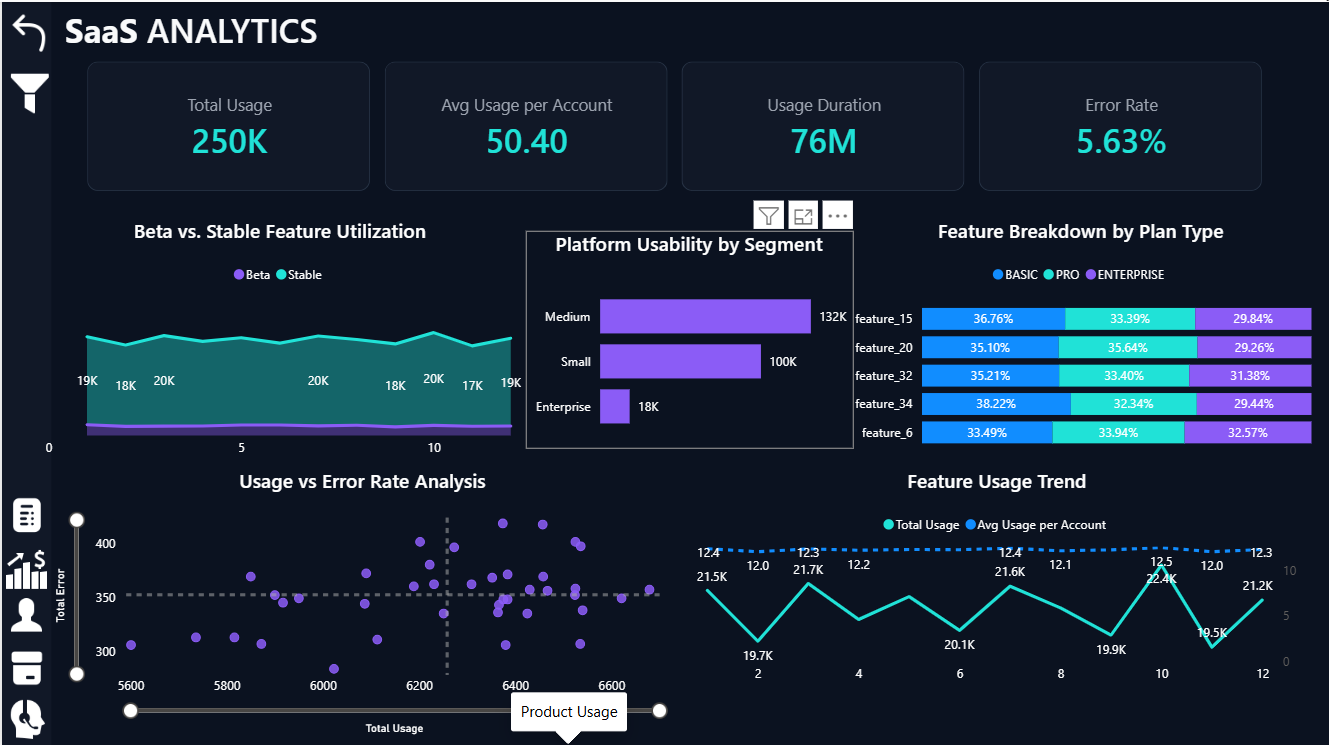

Layout of this report page (visuals, bound fields, positions):
{"tool":"powerbi","page":{"name":"Product Usage","canvas":[1280,720],"ordinal":3},"visuals":[{"type":"cardVisual","fields":{"Data":["gold fact_feature_usage.Total Usage","gold fact_feature_usage.Avg Usage","gold fact_feature_usage.Usage Duration","gold fact_feature_usage.Error Rate"]},"box":[47.6,41.8,1207.6,155.8],"z":0},{"type":"image","box":[0,520.8,47.6,51.9],"z":0,"group":"g1"},{"type":"clusteredBarChart","title":"Platform Usability by Segment","fields":{"Category":["gold dim_accounts.customer_segment"],"Y":["gold fact_feature_usage.Total Usage"]},"box":[505.7,220.8,315.3,210.2],"z":1000},{"type":"image","box":[0,572.8,47.6,37.5],"z":1000,"group":"g1"},{"type":"textbox","box":[47.6,0,346.3,59.2],"z":2000},{"type":"image","box":[0,618.9,47.6,47.6],"z":2000,"group":"g1"},{"type":"shape","box":[0,0,47.6,719.9],"z":3000},{"type":"image","box":[0,670,47.6,42],"z":3000,"group":"g1"},{"type":"stackedAreaChart","title":"Beta vs. Stable Feature Utilization","fields":{"Category":["gold fact_feature_usage.Usage Quarter","gold fact_feature_usage.Usage Month"],"Y":["gold fact_feature_usage.Total Usage"],"Series":["gold fact_feature_usage.feature_status"]},"box":[30.3,207.8,476.1,240.9],"z":4000},{"type":"image","box":[0,468.9,47.6,51.9],"z":4000,"group":"g1"},{"type":"hundredPercentStackedBarChart","title":"Feature Breakdown by Plan Type","fields":{"Y":["gold fact_feature_usage.Total Usage"],"Category":["gold fact_feature_usage.feature_name"],"Series":["gold dim_accounts.plan_tier"]},"box":[813.7,207.8,455.9,235.2],"z":5000},{"type":"scatterChart","title":"Usage vs Error Rate Analysis","fields":{"X":["gold fact_feature_usage.Total Usage"],"Y":["gold fact_feature_usage.Total Error"],"Category":["gold fact_feature_usage.feature_name"]},"box":[43.3,448.7,608.8,262.6],"z":6000},{"type":"lineChart","title":"Feature Usage Trend","fields":{"Y":["gold fact_feature_usage.Total Usage"],"Y2":["gold fact_feature_usage.Avg Usage"],"Category":["gold fact_feature_usage.Usage Year Hierarchy.Usage Year","gold fact_feature_usage.Usage Year Hierarchy.Usage Quarter","gold fact_feature_usage.Usage Year Hierarchy.Usage Month","gold fact_feature_usage.Usage Year Hierarchy.usage_date"]},"box":[666.6,448.7,588.6,217.9],"z":7000},{"type":"image","title":"Filter Button","box":[5.4,59.8,41.7,56.2],"z":8000},{"type":"image","title":"Filter Button","box":[5.8,2.9,41.8,56.3],"z":10000},{"type":"group","id":"g1","title":"Page NAv","box":[0,468.9,47.6,243.1],"z":11000}]}

Visuals, with their boxes on the page's 1280x720 design canvas (x1, y1, x2, y2). These are canvas units, not pixel positions in the 1329x745 screenshot, which may show the page scaled, cropped or inside an application window:
cardVisual - gold fact_feature_usage.Total Usage x gold fact_feature_usage.Avg Usage: detection(48, 42, 1255, 198)
image: detection(0, 521, 48, 573)
"Platform Usability by Segment" clusteredBarChart: detection(506, 221, 821, 431)
image: detection(0, 573, 48, 610)
textbox: detection(48, 0, 394, 59)
image: detection(0, 619, 48, 666)
shape: detection(0, 0, 48, 720)
image: detection(0, 670, 48, 712)
"Beta vs. Stable Feature Utilization" stackedAreaChart: detection(30, 208, 506, 449)
image: detection(0, 469, 48, 521)
"Feature Breakdown by Plan Type" hundredPercentStackedBarChart: detection(814, 208, 1270, 443)
"Usage vs Error Rate Analysis" scatterChart: detection(43, 449, 652, 711)
"Feature Usage Trend" lineChart: detection(667, 449, 1255, 667)
"Filter Button" image: detection(5, 60, 47, 116)
"Filter Button" image: detection(6, 3, 48, 59)
"Page NAv" group: detection(0, 469, 48, 712)
